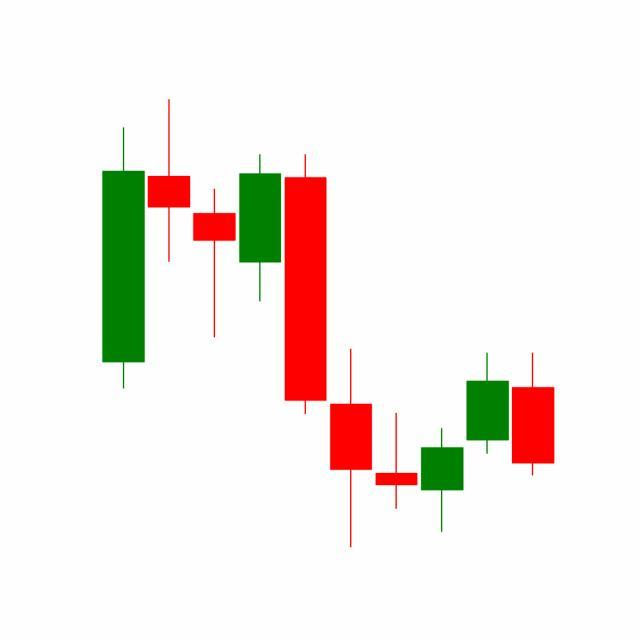Hikkake Pattern: (283, 150, 512, 548)
